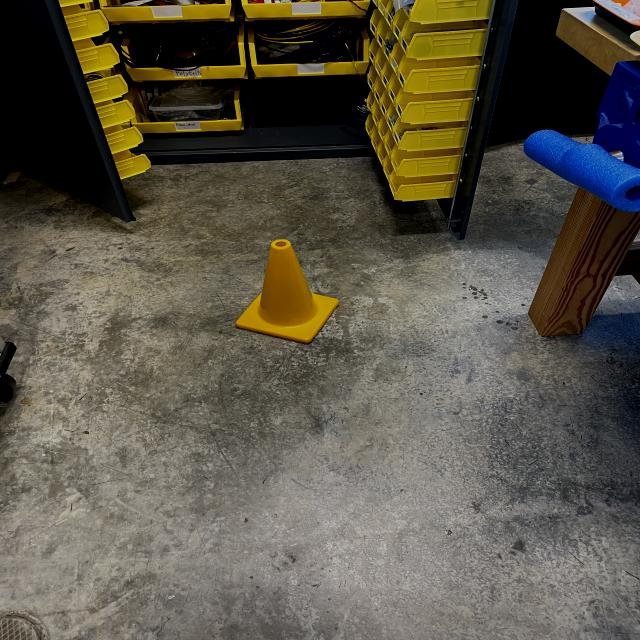frc_cone: (228, 234, 343, 342)
